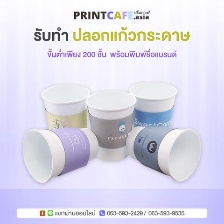paper_cup: (122, 121, 206, 184), (17, 123, 101, 185), (82, 84, 139, 165), (36, 80, 92, 140), (125, 79, 181, 136)
